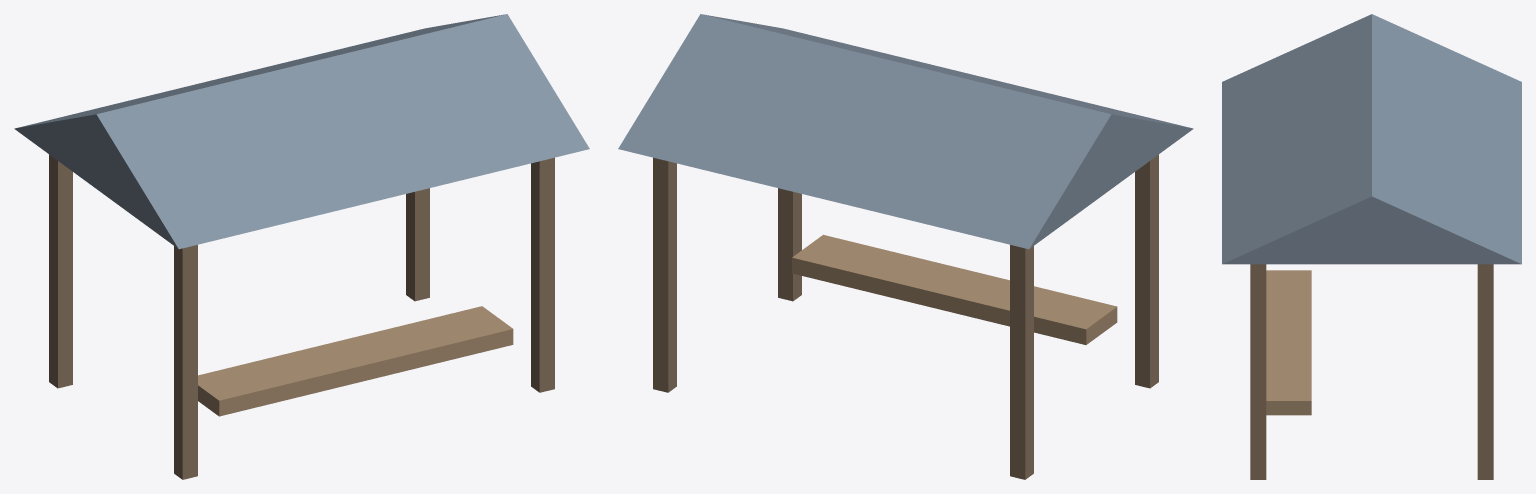
The picture shows the model from 3 angles, left to right: view 1: azimuth 30°, elevation 25°; view 2: azimuth 150°, elevation 25°; view 3: azimuth 270°, elevation 25°; orthographic projection. The views are drawn at different scales.
Parts seen in each view (by area): view 1: structure.beach_shelter; view 2: structure.beach_shelter; view 3: structure.beach_shelter.
Part boxes in pixels (x1,y1,x2,y2): structure.beach_shelter: [14, 14, 589, 479]; structure.beach_shelter: [618, 14, 1193, 479]; structure.beach_shelter: [1222, 14, 1521, 479].
Bounding box in the file's own units: 3.8 × 2.84 × 2.64.
